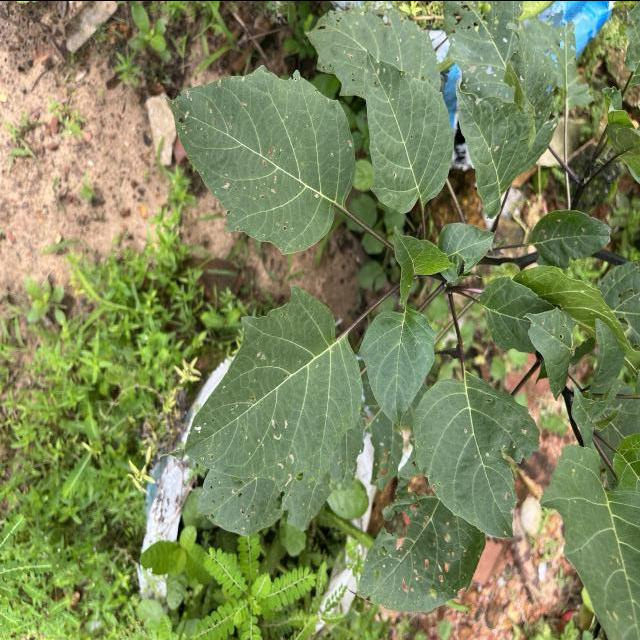Datura metal linn: (153, 281, 364, 494), (162, 62, 358, 258), (411, 369, 542, 539), (362, 42, 460, 215), (356, 304, 438, 438)
